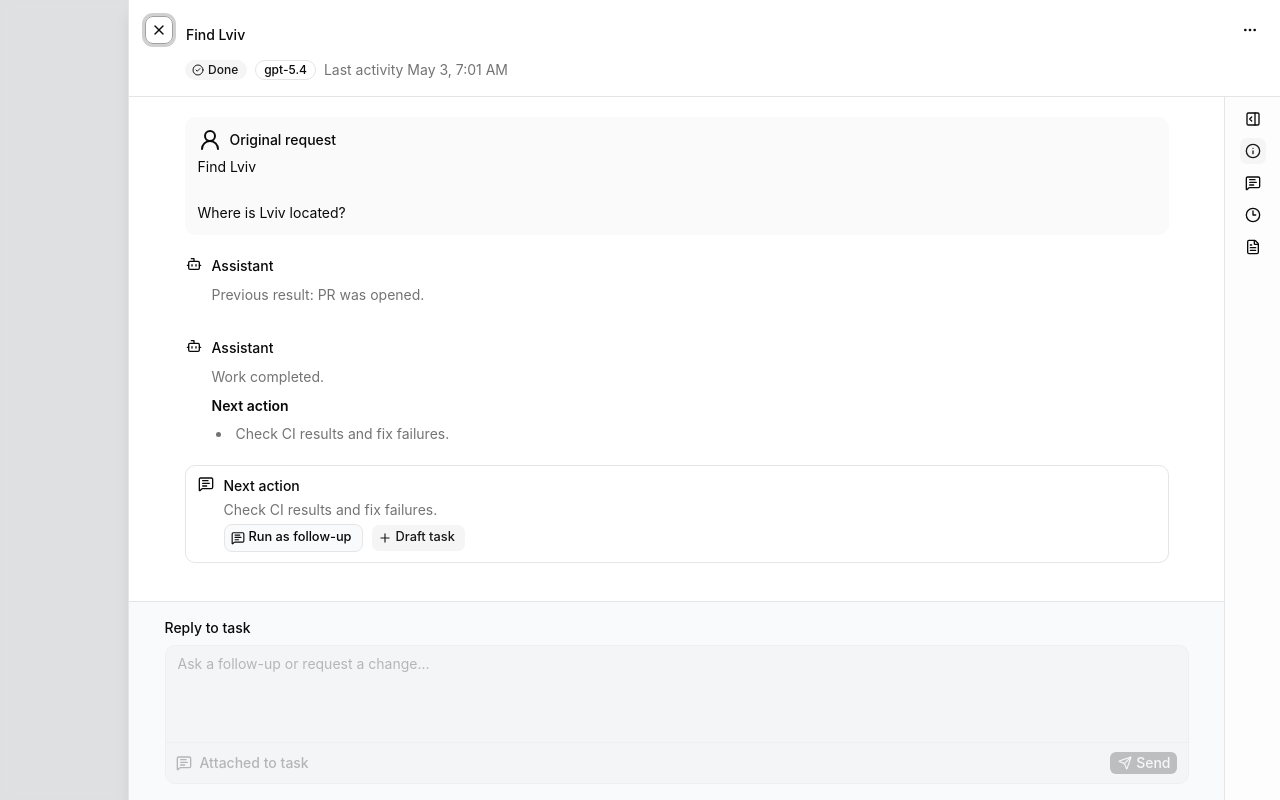
Test case: TaskModal › runs a next action as a scoped follow-up
The image size is (1280, 800).
Click the button "Run as follow-up" at (293, 538), box [224, 524, 362, 552]
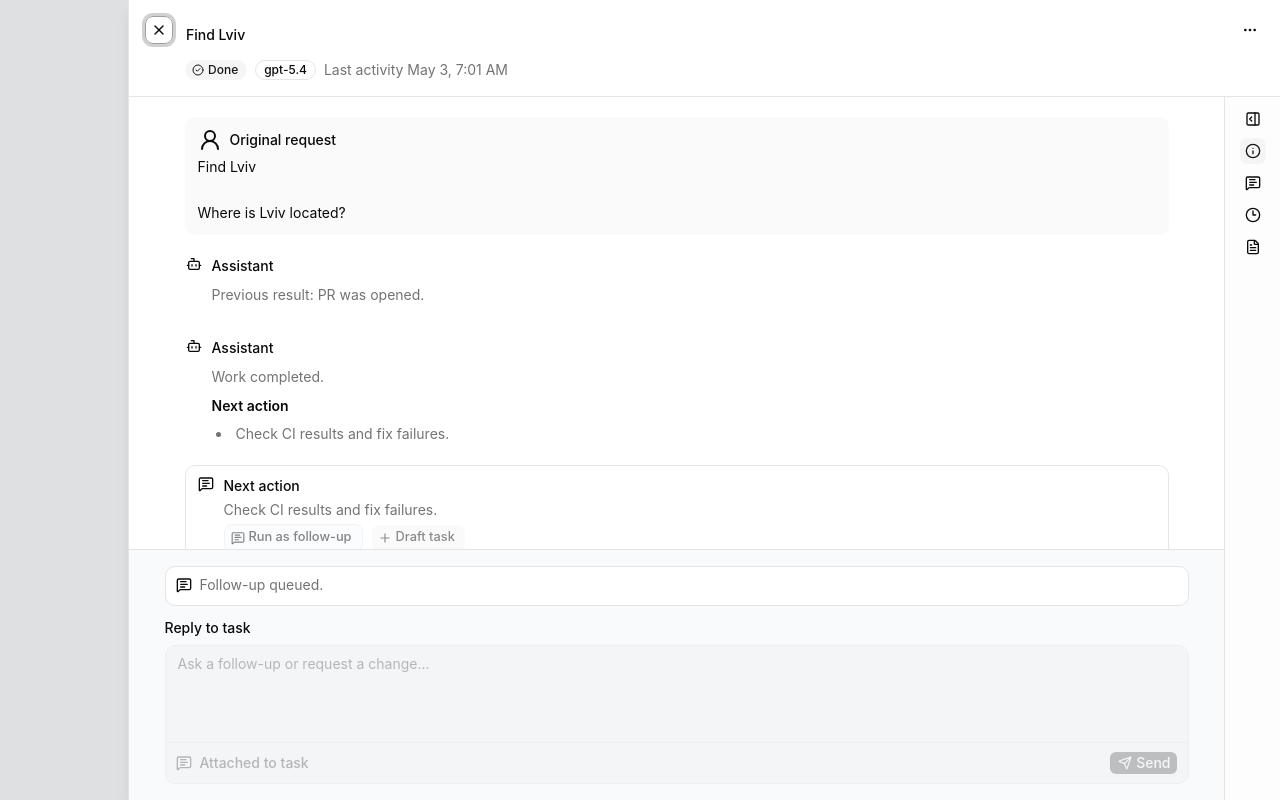
expect the button "Run as follow-up" is disabled: met, box [224, 524, 362, 549]
expect the button "Draft task" is disabled: met, box [370, 524, 466, 549]
